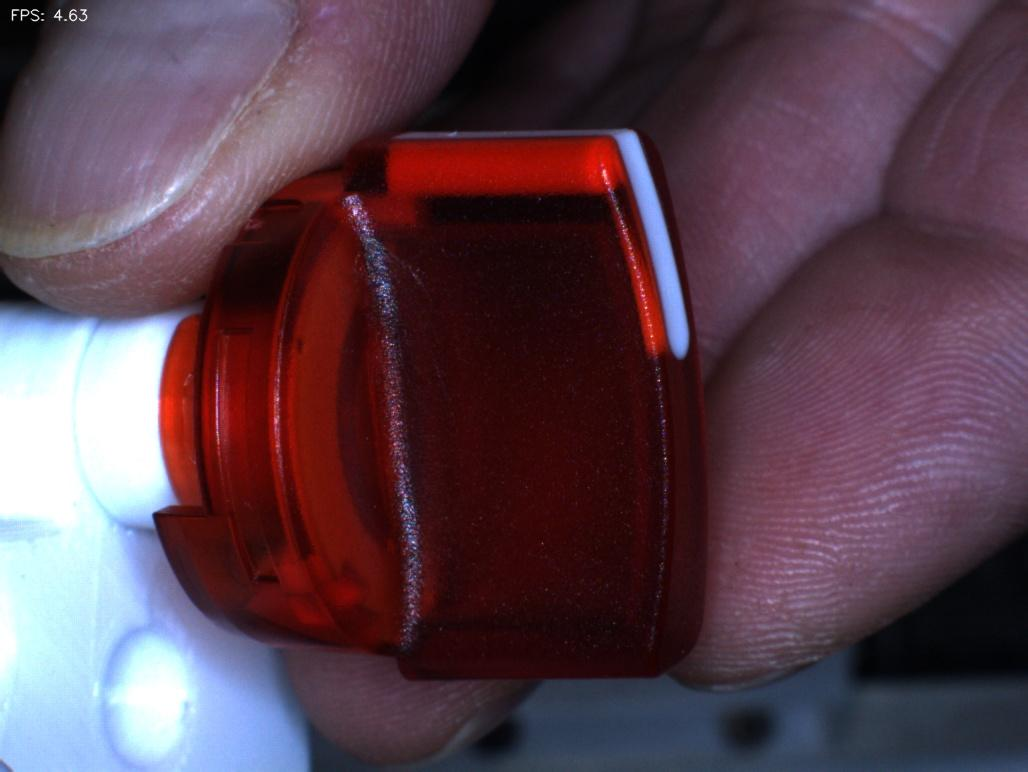Givrage: (342, 229, 450, 403)
